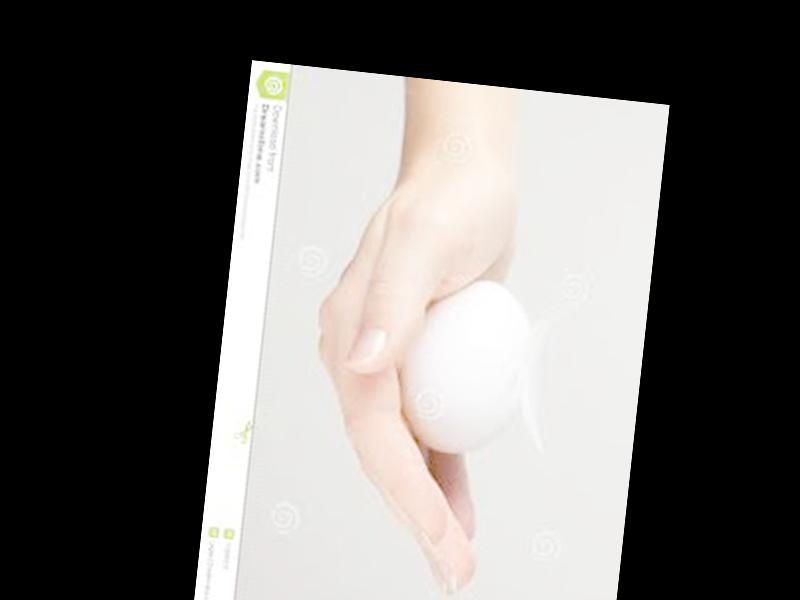Eggs: (393, 271, 534, 462)
